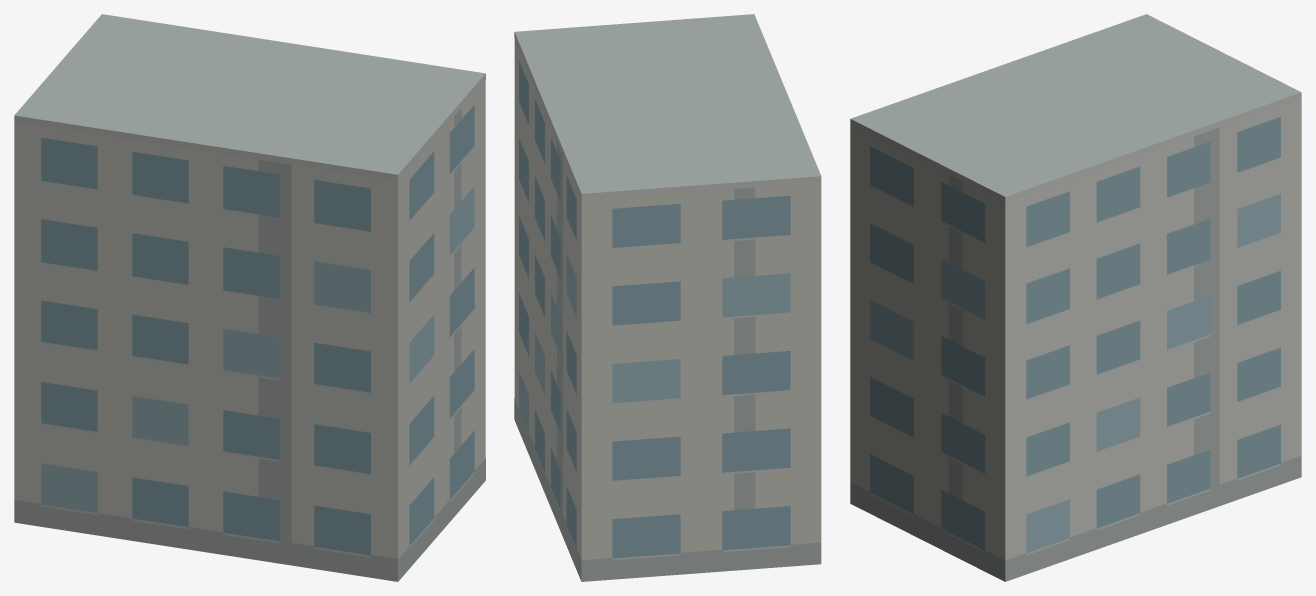
The model's file is residential-85f6409d-c40c-45af-b8bd-8a17195398aa.glb.
The picture shows the model from 3 angles, left to right: view 1: azimuth 30°, elevation 25°; view 2: azimuth 150°, elevation 25°; view 3: azimuth 270°, elevation 25°; orthographic projection. The views are drawn at different scales.
Parts seen in each view (by area): view 1: residential-85f6409d-c40c-45af-b8bd-8a17195398aa.tmp; view 2: residential-85f6409d-c40c-45af-b8bd-8a17195398aa.tmp; view 3: residential-85f6409d-c40c-45af-b8bd-8a17195398aa.tmp.
Part boxes in pixels (bbox=[...]): residential-85f6409d-c40c-45af-b8bd-8a17195398aa.tmp: bbox=[14, 14, 485, 581]; residential-85f6409d-c40c-45af-b8bd-8a17195398aa.tmp: bbox=[514, 14, 821, 581]; residential-85f6409d-c40c-45af-b8bd-8a17195398aa.tmp: bbox=[850, 14, 1301, 581].
Size of the model in its own units: 15.56 by 15.25 by 16.22.
